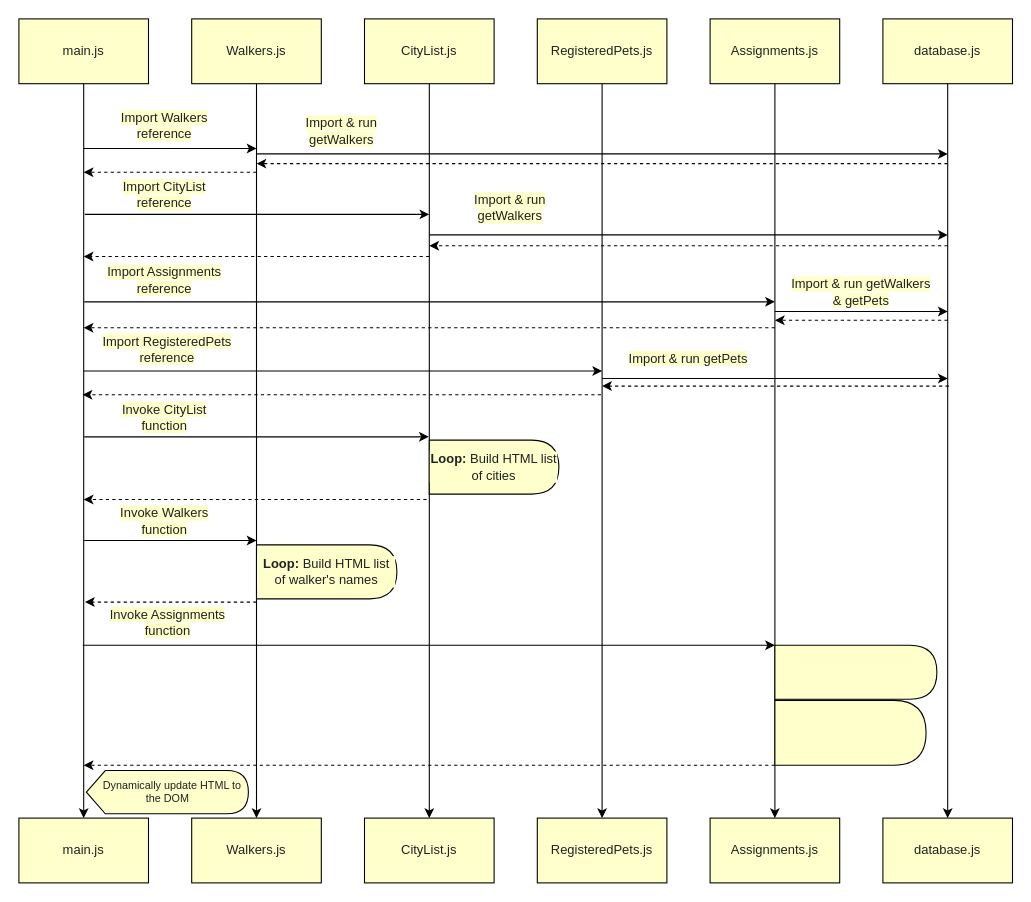
This 1031x902 diagram has some shape labels left out. Each missing label, with the centre of its shape:
"Loop: Build HTML list of each pet, its assigned walker, and their city" goes at (850,732).
"Loop: Find current walker assigned to pet" goes at (855,671).
